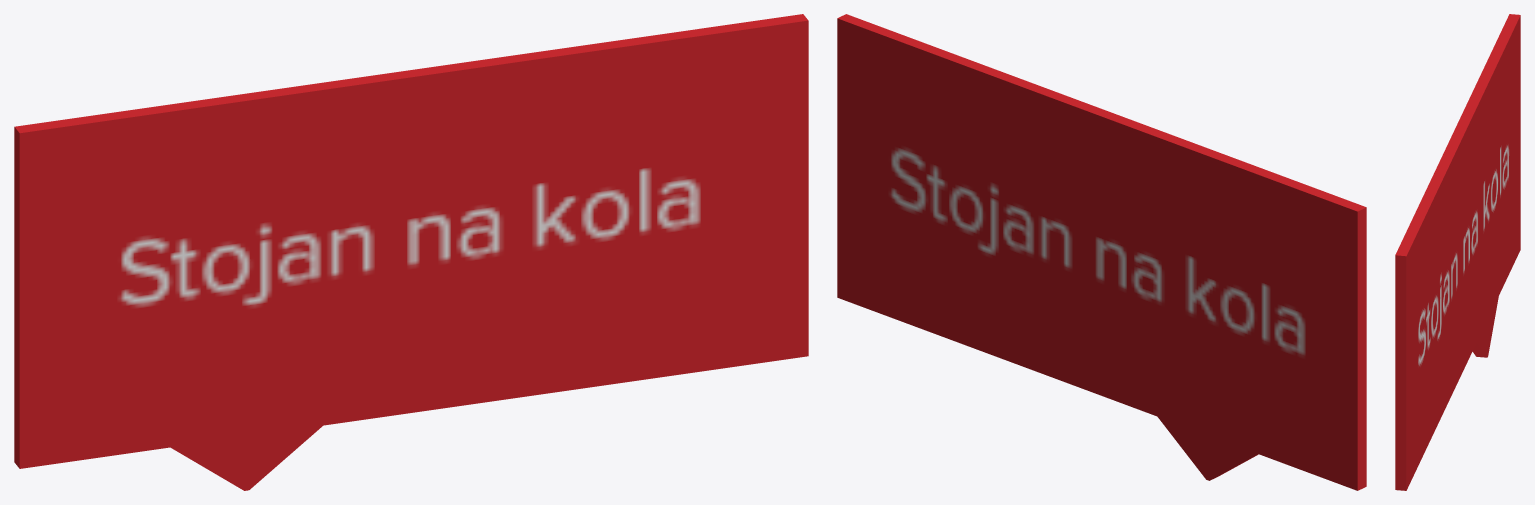
File: sign2.glb
3 renders of one model, left to right at view 1: azimuth 30°, elevation 25°; view 2: azimuth 150°, elevation 25°; view 3: azimuth 270°, elevation 25°, orthographic. The views are drawn at different scales.
Parts seen in each view (by area): view 1: sign_2_stojannakola; view 2: sign_2_stojannakola; view 3: sign_2_stojannakola.
Boxes of the visible parts, x1,y1,x2,y2 form: sign_2_stojannakola: [14, 14, 808, 490]; sign_2_stojannakola: [837, 14, 1366, 490]; sign_2_stojannakola: [1395, 14, 1520, 490].
Size of the model in its own units: 1.56 by 0.8188 by 0.3417.
1 material, 1 textured.
